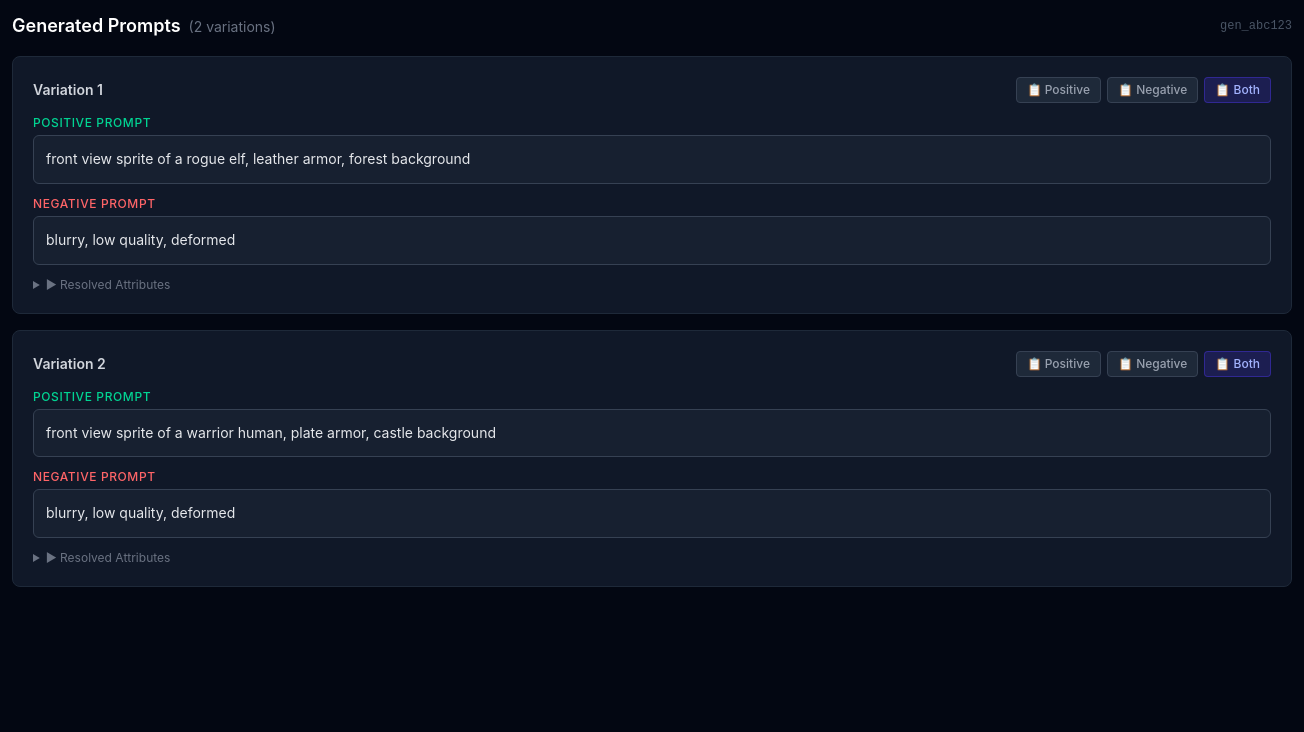
Test: PromptResults › shows resolved attributes when expanded
Click the 1st heading "▶ Resolved Attributes".
click(108, 284)  # box x1=46 y1=276 x2=170 y2=292
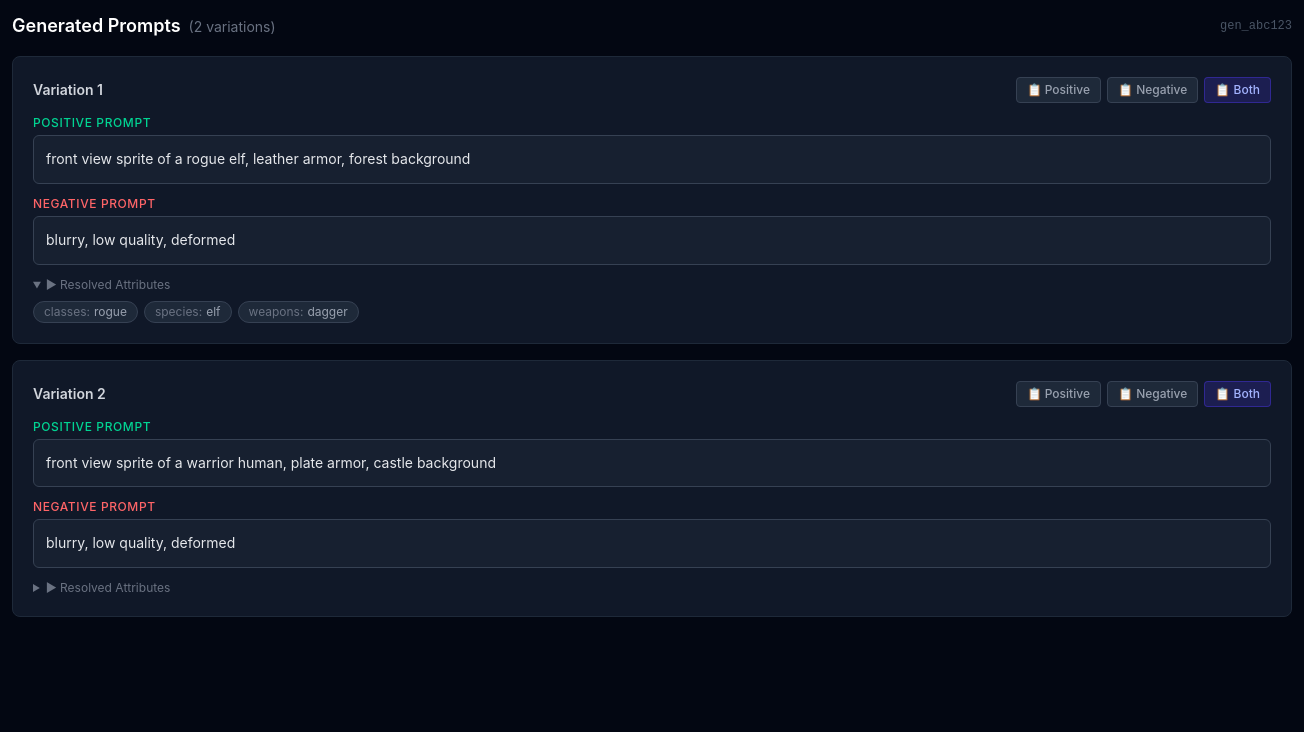
Now the text "rogue" is shown, box x1=94 y1=304 x2=127 y2=318
Now the text "elf" is shown, box x1=206 y1=304 x2=220 y2=318
